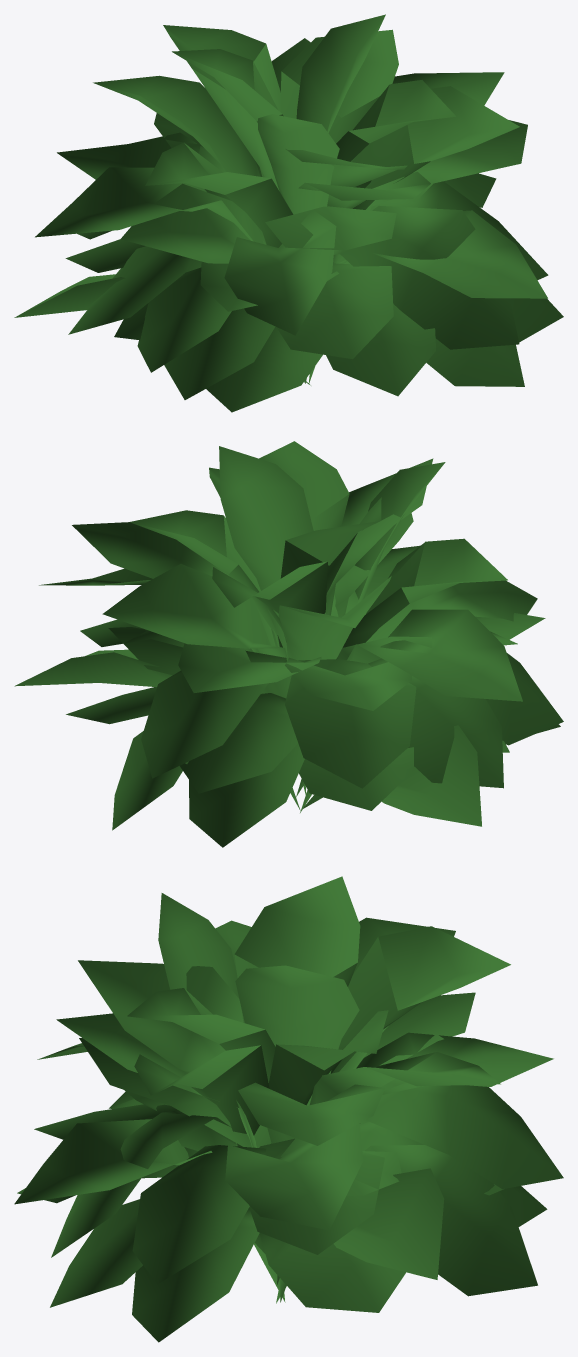
The model's file is Fern_Royal_A.obj.
3 views of the same model, one above another, from view 1: azimuth 30°, elevation 25°; view 2: azimuth 150°, elevation 25°; view 3: azimuth 270°, elevation 25° (orthographic). The views are drawn at different scales.
Visible parts, largest first — view 1: Fern_Royal_A; view 2: Fern_Royal_A; view 3: Fern_Royal_A.
Boxes of the visible parts, x1=… form: Fern_Royal_A: x1=14, y1=14, x2=563, y2=412; Fern_Royal_A: x1=14, y1=441, x2=563, y2=847; Fern_Royal_A: x1=14, y1=876, x2=563, y2=1342.
Size of the model in its own units: 4.46 by 3.04 by 3.99.
